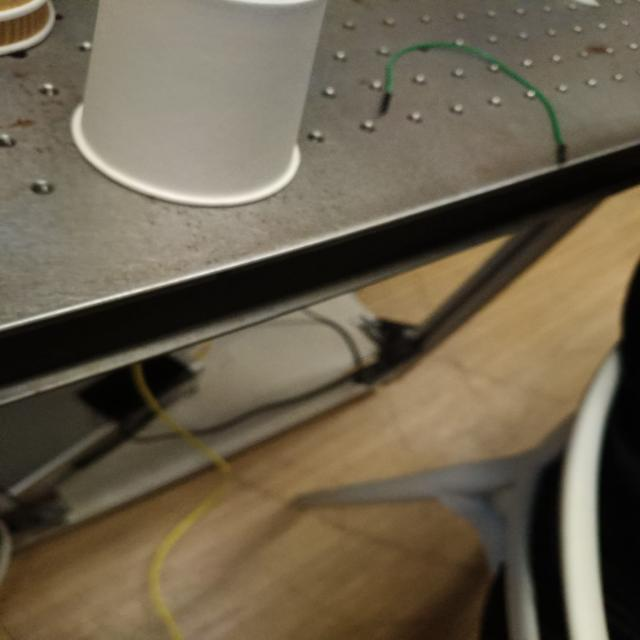Browncup: (0, 0, 57, 56), (0, 0, 48, 22)
Whitecup: (72, 0, 325, 206)
